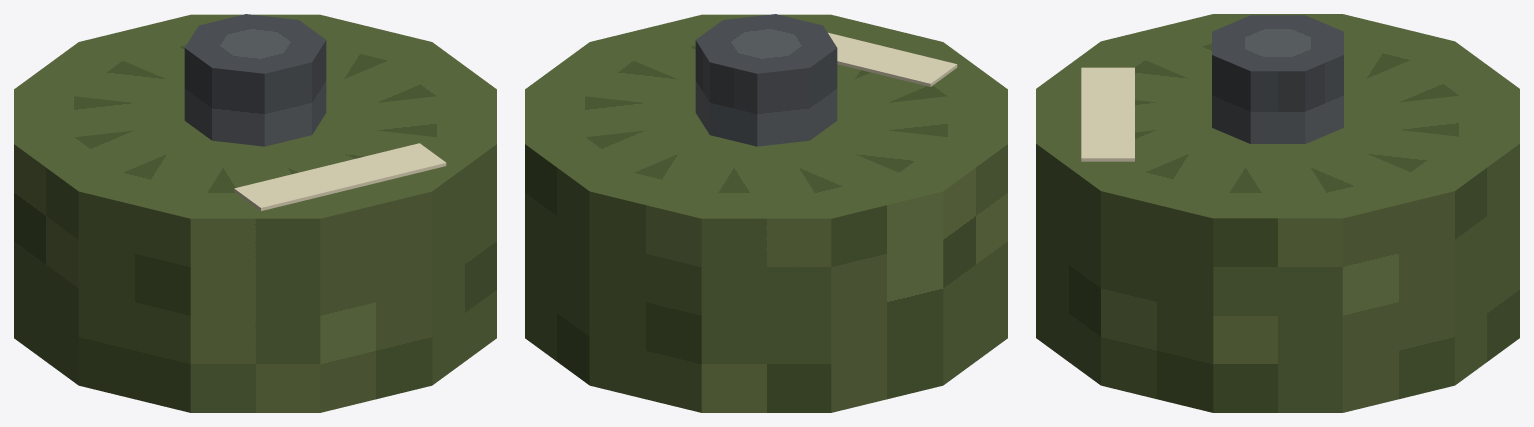
Rendered from tr_landmine.glb.
3 renders of one model, left to right at view 1: azimuth 30°, elevation 25°; view 2: azimuth 150°, elevation 25°; view 3: azimuth 270°, elevation 25°, orthographic.
Visible parts, largest first — view 1: block_mine, block_fuse, block_stencil; view 2: block_mine, block_fuse, block_stencil; view 3: block_mine, block_fuse, block_stencil.
Part boxes in pixels (left/top/right/bottom): block_mine: left=14, top=14, right=496, bottom=412; block_fuse: left=184, top=14, right=326, bottom=146; block_stencil: left=234, top=143, right=446, bottom=210; block_mine: left=525, top=14, right=1007, bottom=412; block_fuse: left=695, top=14, right=837, bottom=146; block_stencil: left=828, top=32, right=957, bottom=86; block_mine: left=1036, top=14, right=1519, bottom=412; block_fuse: left=1212, top=15, right=1343, bottom=143; block_stencil: left=1081, top=67, right=1134, bottom=161.
Size of the model in its own units: 0.1352 by 0.0825 by 0.1352.
2 materials, 2 textured.
